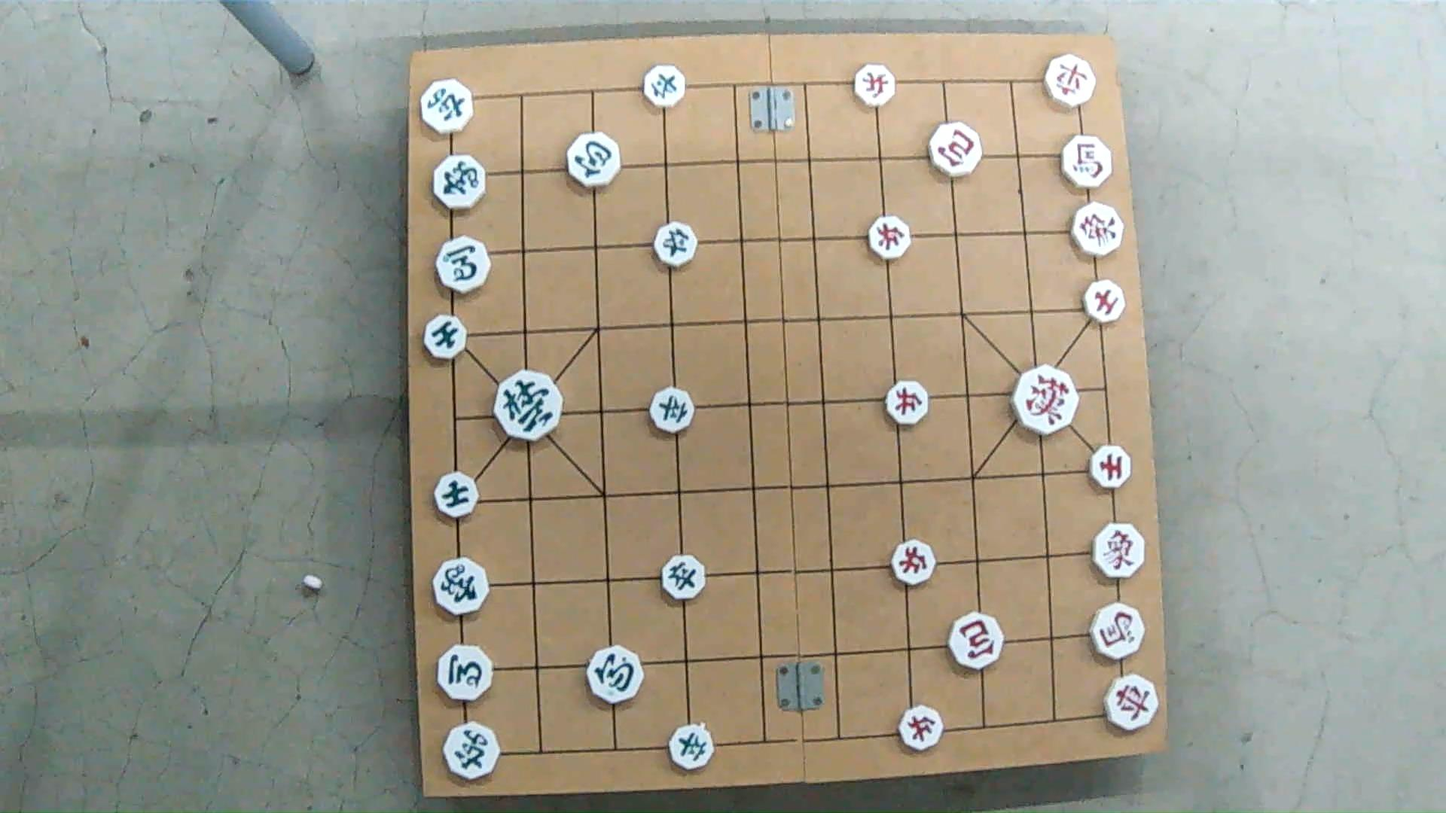cha_green: (441, 721, 499, 779), (421, 81, 476, 135)
cha_red: (1104, 678, 1160, 732), (1042, 55, 1095, 105)
jol_green: (651, 385, 694, 435), (669, 724, 715, 770), (662, 554, 706, 598), (651, 223, 697, 265), (641, 67, 685, 108), (305, 574, 326, 588)
jol_red: (889, 540, 935, 583), (901, 708, 946, 750), (867, 218, 912, 260), (885, 380, 930, 422), (853, 66, 897, 108)
ma_green: (435, 644, 495, 702), (435, 239, 491, 291)
ma_red: (1092, 605, 1146, 658), (1059, 135, 1114, 187)
po_green: (582, 643, 644, 703), (567, 133, 621, 185)
po_red: (947, 612, 1003, 666), (928, 124, 982, 174)
sa_green: (423, 316, 468, 359), (434, 473, 479, 516)
sa_red: (1088, 446, 1133, 486), (1084, 279, 1124, 323)
sang_green: (433, 556, 492, 616), (433, 152, 484, 211)
sang_red: (1089, 519, 1144, 578), (1071, 203, 1123, 254)
wang_green: (493, 373, 561, 437)
wang_red: (1011, 367, 1080, 431)
